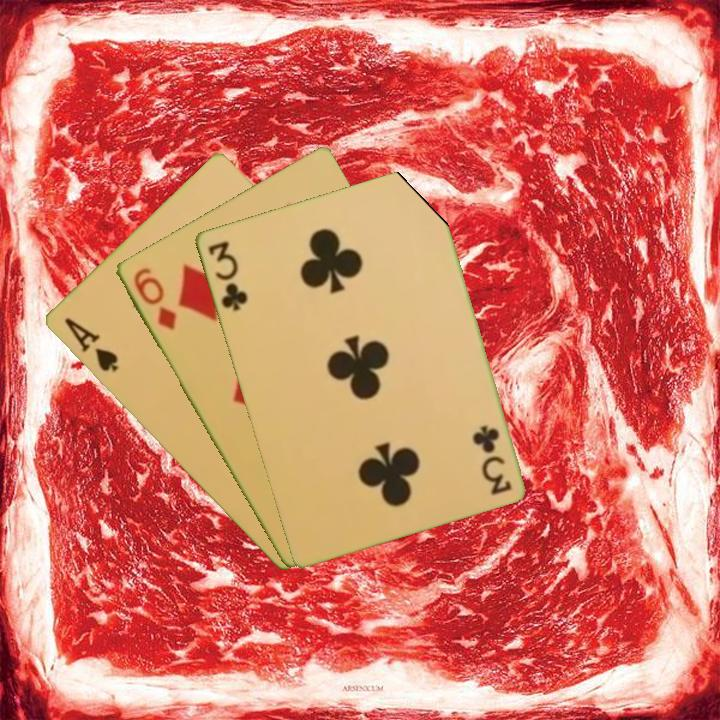3c: (204, 237, 250, 314), (471, 421, 514, 498)
6d: (129, 264, 179, 333)
As: (60, 313, 121, 375)
